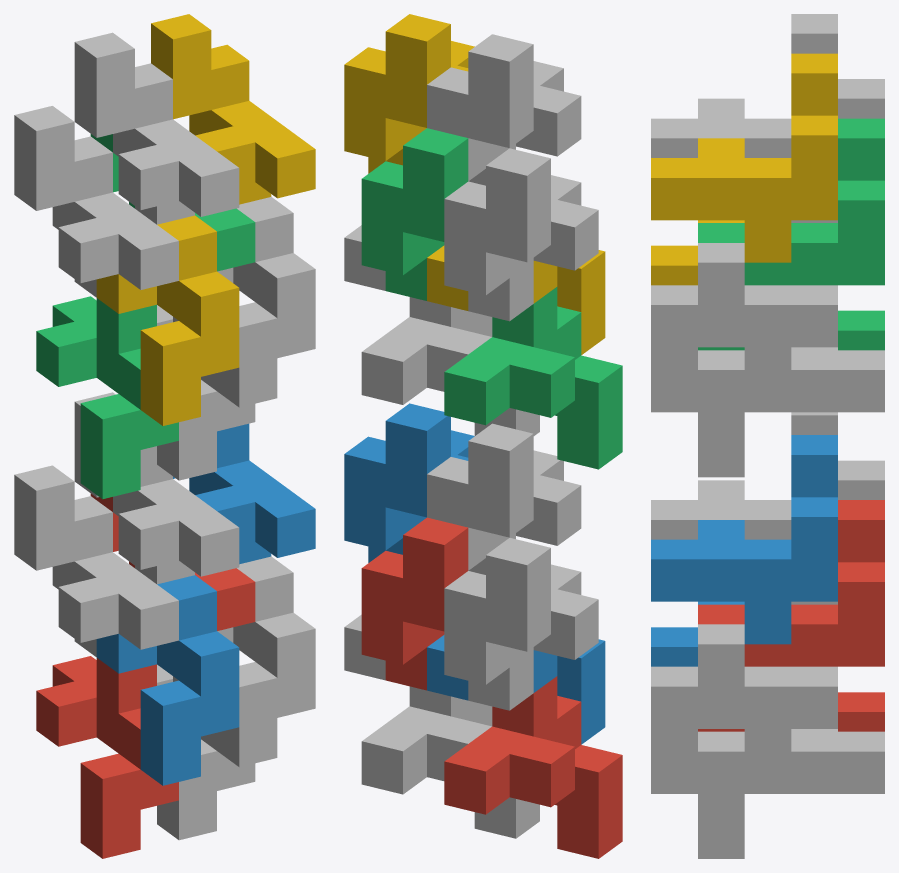
Rendered from tiling.obj.
The picture shows the model from 3 angles, left to right: view 1: azimuth 30°, elevation 25°; view 2: azimuth 150°, elevation 25°; view 3: azimuth 270°, elevation 25°; orthographic projection. The views are drawn at different scales.
Visible parts, largest first — view 1: copy_2_domain_4, copy_2_domain_1, copy_2_domain_3, copy_1_domain_1, copy_1_domain_3, copy_1_domain_2, copy_1_domain_4, copy_2_domain_8, copy_1_domain_6, copy_1_domain_8, copy_2_domain_2, copy_2_domain_6 (+4 smaller); view 2: copy_1_domain_1, copy_1_domain_3, copy_2_domain_3, copy_2_domain_1, copy_2_domain_4, copy_2_domain_2, copy_2_domain_5, copy_2_domain_7, copy_2_domain_8, copy_2_domain_6, copy_1_domain_5, copy_1_domain_7 (+4 smaller); view 3: copy_2_domain_8, copy_2_domain_6, copy_1_domain_6, copy_1_domain_8, copy_1_domain_7, copy_1_domain_5, copy_2_domain_7, copy_2_domain_5, copy_2_domain_4, copy_2_domain_2, copy_1_domain_3, copy_1_domain_2 (+4 smaller).
Boxes of the visible parts, bbox=[...] form: copy_2_domain_4: bbox=[74, 32, 239, 224]; copy_2_domain_1: bbox=[14, 465, 178, 656]; copy_2_domain_3: bbox=[14, 106, 178, 297]; copy_1_domain_1: bbox=[36, 656, 178, 858]; copy_1_domain_3: bbox=[36, 296, 178, 499]; copy_1_domain_2: bbox=[96, 575, 239, 785]; copy_1_domain_4: bbox=[96, 215, 239, 425]; copy_2_domain_8: bbox=[151, 14, 315, 204]; copy_1_domain_6: bbox=[217, 556, 315, 767]; copy_1_domain_8: bbox=[217, 197, 315, 407]; copy_2_domain_2: bbox=[74, 392, 239, 584]; copy_2_domain_6: bbox=[173, 423, 315, 564]; copy_1_domain_1: bbox=[444, 676, 622, 858]; copy_1_domain_3: bbox=[444, 287, 622, 469]; copy_2_domain_3: bbox=[444, 148, 598, 321]; copy_2_domain_1: bbox=[444, 538, 598, 710]; copy_2_domain_4: bbox=[427, 34, 581, 185]; copy_2_domain_2: bbox=[427, 423, 581, 574]; copy_2_domain_5: bbox=[361, 517, 468, 690]; copy_2_domain_7: bbox=[361, 128, 468, 300]; copy_2_domain_8: bbox=[344, 14, 474, 173]; copy_2_domain_6: bbox=[344, 403, 474, 562]; copy_1_domain_5: bbox=[361, 686, 539, 838]; copy_1_domain_7: bbox=[361, 297, 539, 435]; copy_2_domain_8: bbox=[651, 53, 837, 262]; copy_2_domain_6: bbox=[651, 435, 837, 644]; copy_1_domain_6: bbox=[651, 624, 837, 793]; copy_1_domain_8: bbox=[651, 243, 837, 412]; copy_1_domain_7: bbox=[698, 347, 884, 477]; copy_1_domain_5: bbox=[698, 729, 884, 858]; copy_2_domain_7: bbox=[698, 118, 884, 285]; copy_2_domain_5: bbox=[698, 500, 884, 666]; copy_2_domain_4: bbox=[651, 14, 837, 157]; copy_2_domain_2: bbox=[651, 412, 837, 539]; copy_1_domain_3: bbox=[698, 310, 884, 350]; copy_1_domain_2: bbox=[651, 601, 744, 666].
Size of the model in its own units: 5 by 19 by 5.
